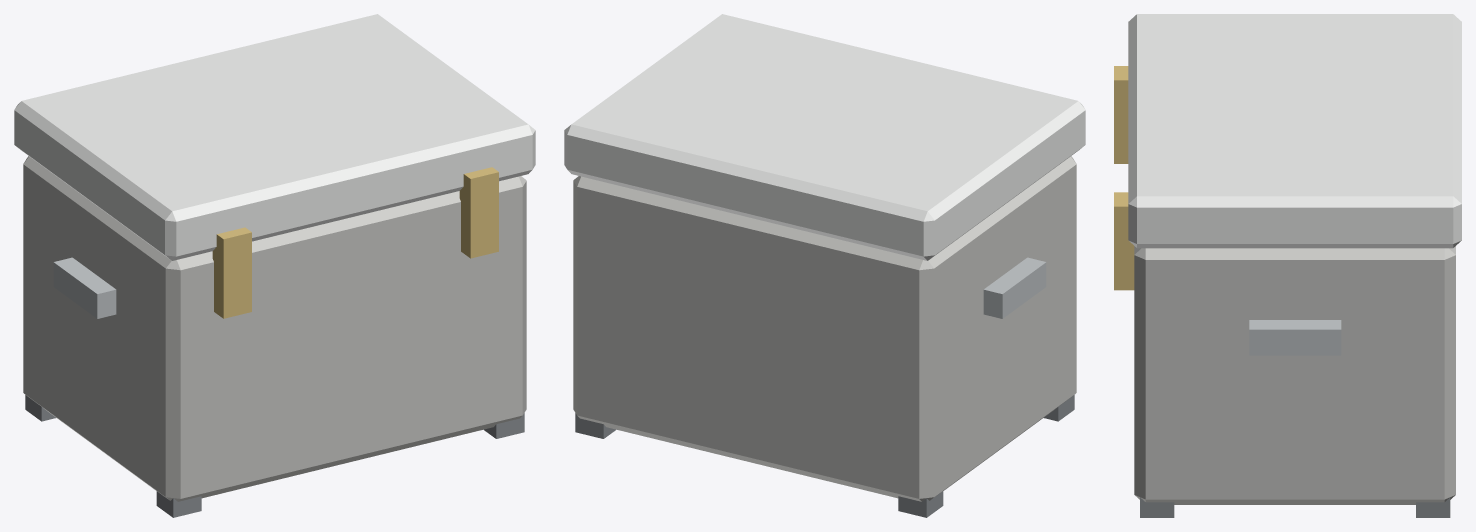
File: P_insulated_box.fbx
The picture shows the model from 3 angles, left to right: view 1: azimuth 30°, elevation 25°; view 2: azimuth 150°, elevation 25°; view 3: azimuth 270°, elevation 25°; orthographic projection. The views are drawn at different scales.
Parts seen in each view (by area): view 1: P_insulated_box; view 2: P_insulated_box; view 3: P_insulated_box.
Part boxes in pixels (x1=…): P_insulated_box: x1=14, y1=14, x2=535, y2=517; P_insulated_box: x1=564, y1=14, x2=1085, y2=517; P_insulated_box: x1=1114, y1=14, x2=1461, y2=517.
Bounding box in the file's own units: 0.84 × 0.62 × 0.605.
